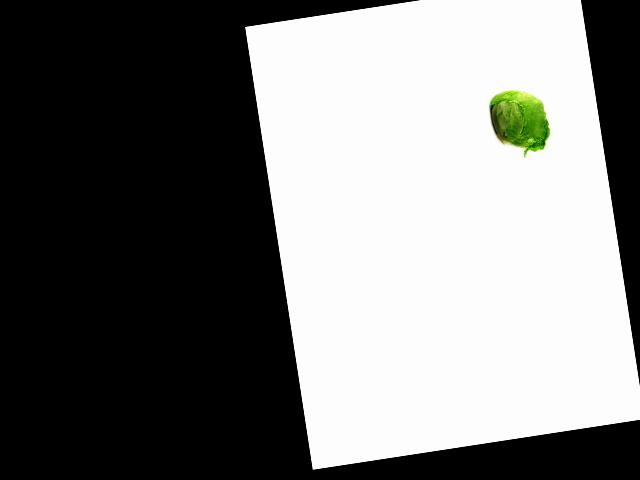lettuce: (485, 82, 554, 154)
